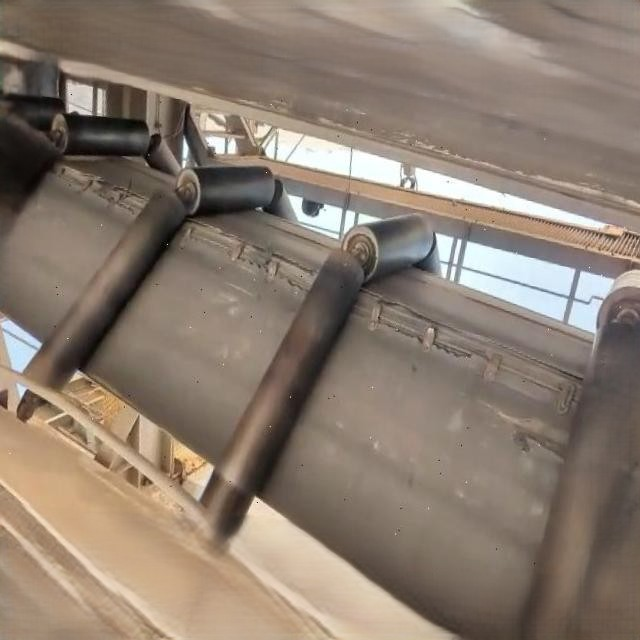Tear: (356, 279, 584, 408), (178, 206, 318, 293), (41, 153, 152, 213)
Wear: (465, 392, 580, 467)
